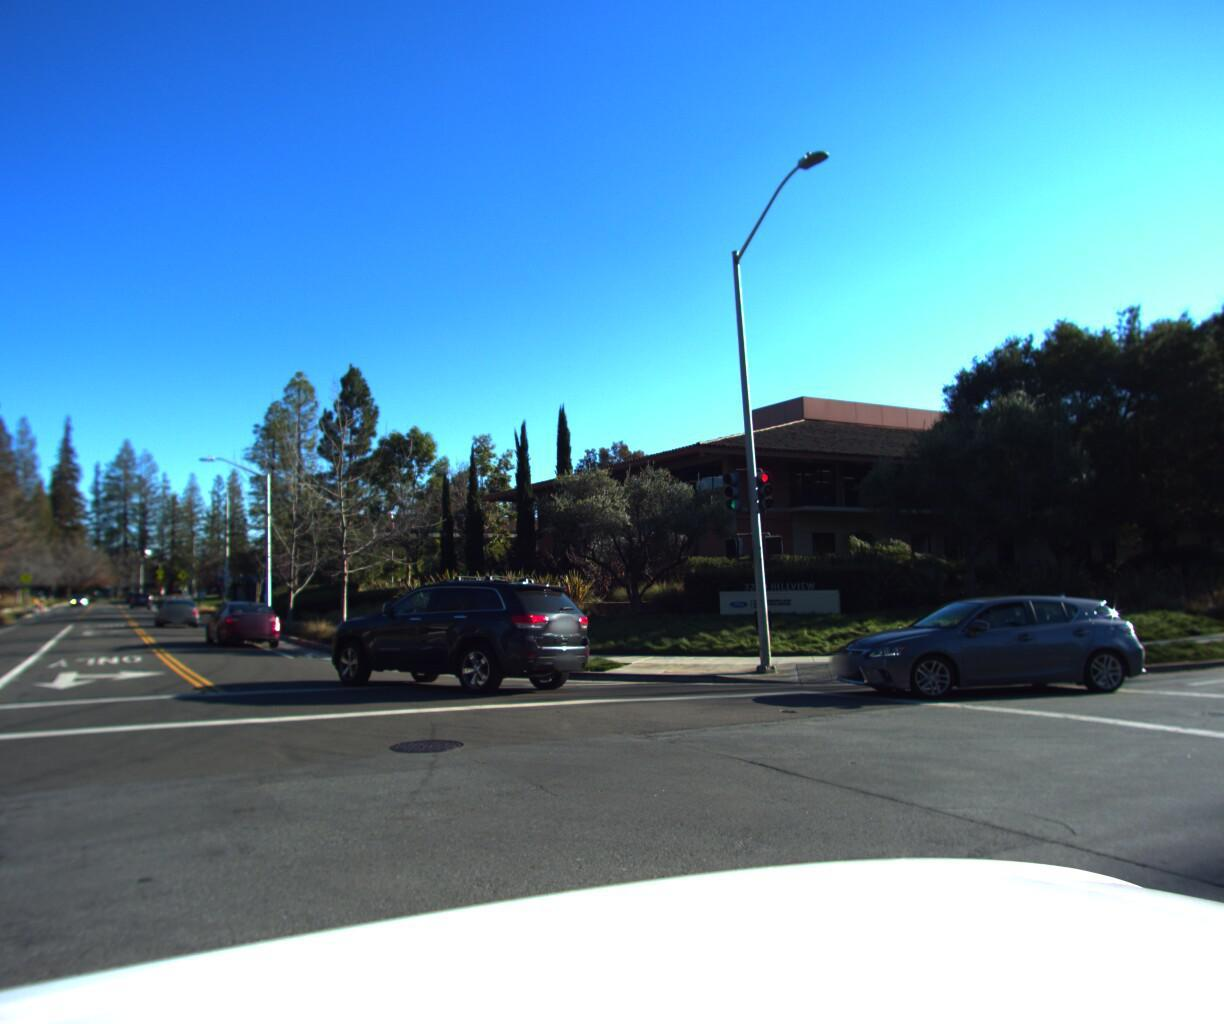car: (817, 586, 1162, 708), (309, 568, 595, 697), (200, 594, 287, 651), (156, 594, 208, 625)
